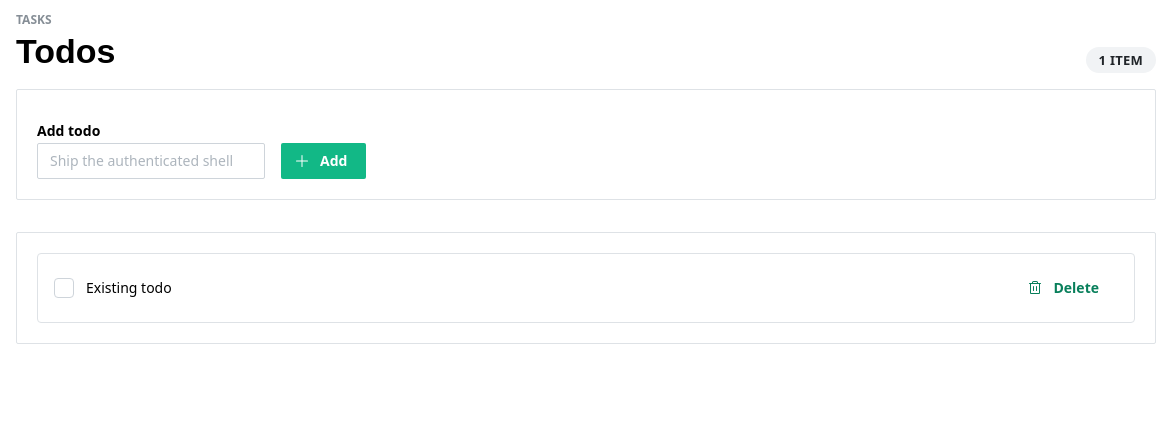
Test: TodosPage › creates a todo, invalidates the list query, and resets the input on success
Check: the text "Existing todo" is shown, box [86,278,172,297]
Type "New todo" into the field named "Todo title". click: (151, 161)
box: [37,143,265,179]
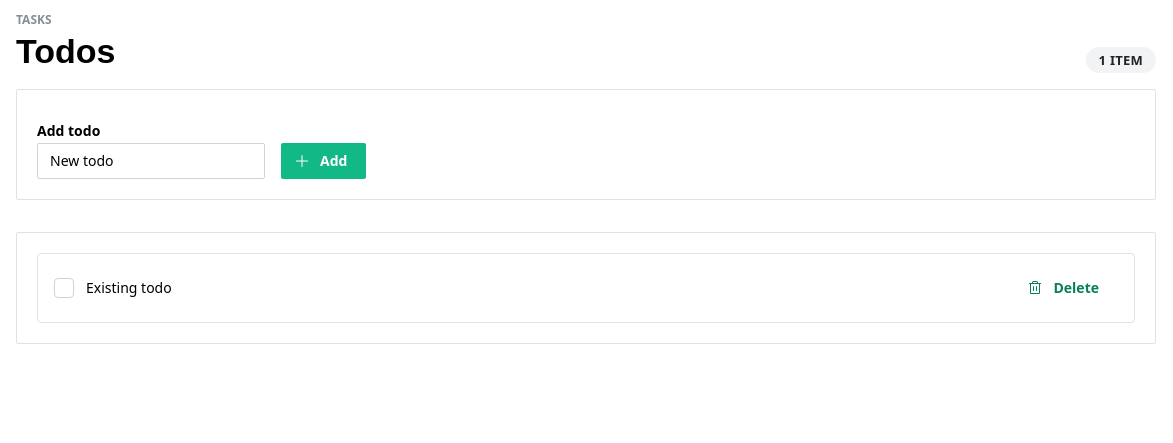
Click the button "Add". click: (324, 161)
box: [281,143,366,179]
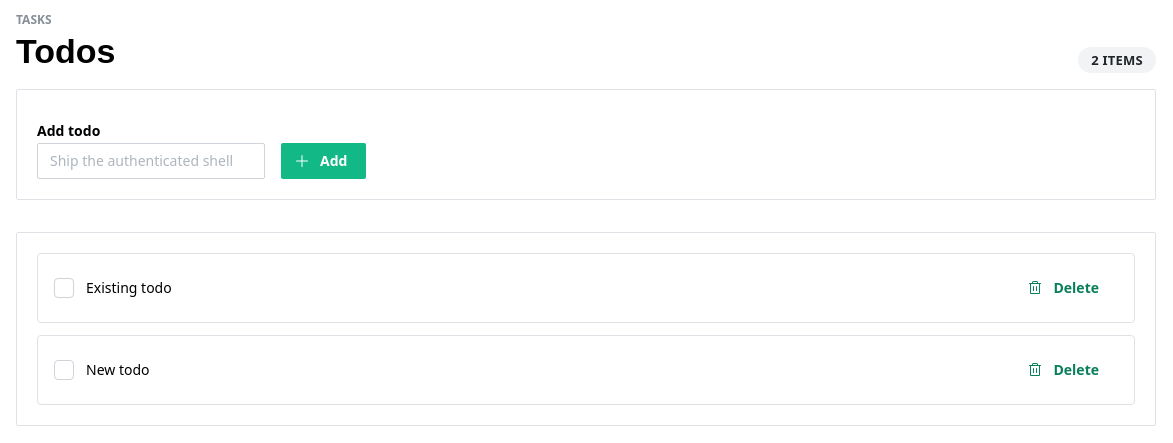
Check: the text "New todo" is shown, box [86,360,150,379]
Check: the checkbox named "Toggle New todo" is shown, box [54,360,74,380]
Check: the field named "Todo title" is empty, box [37,143,265,179]
